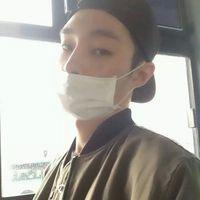WRONG: (51, 26, 142, 117)
